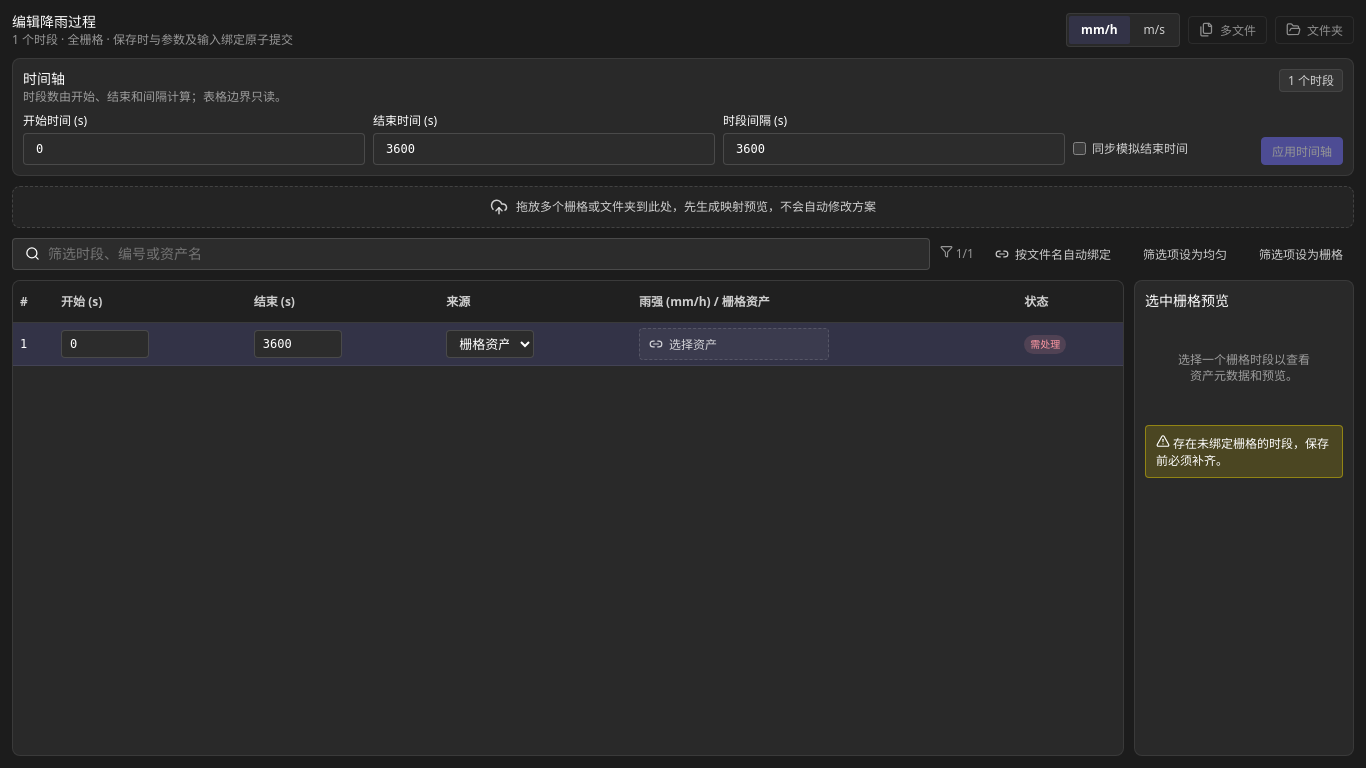
Test: RainfallProcessEditor › surfaces ambiguous library ordinals in mapping preview and blocks apply
Step 1. Click the button "按文件名自动绑定" → {"x": 1053, "y": 254}, box [984,240,1122,268]
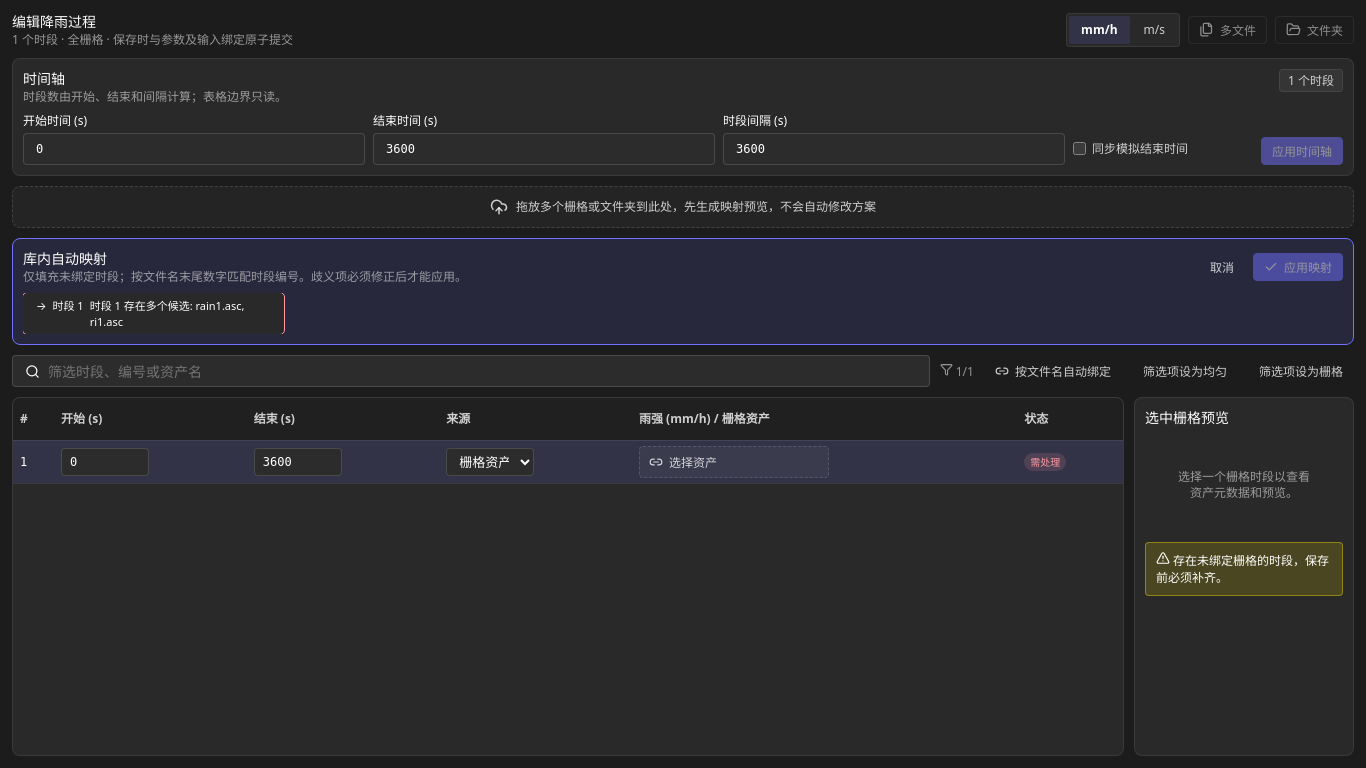
Expected: the text "库内自动映射" is shown, [23,249,107,268]
Expected: the text "时段 1 存在多个候选: rain1.asc, ri1.asc" is shown, [90,298,245,329]
Expected: the button "应用映射" is disabled, [1253,253,1343,281]
